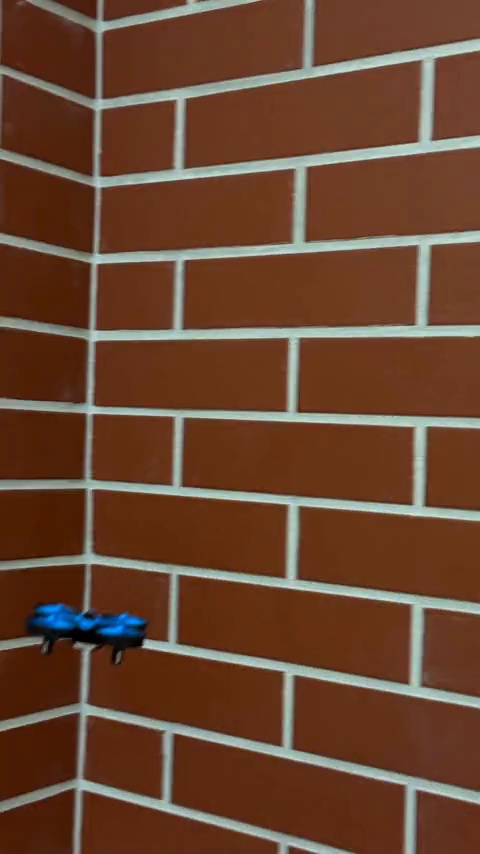drone: (30, 598, 146, 660)
